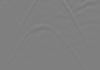hyperbola: (9, 21, 84, 68)
